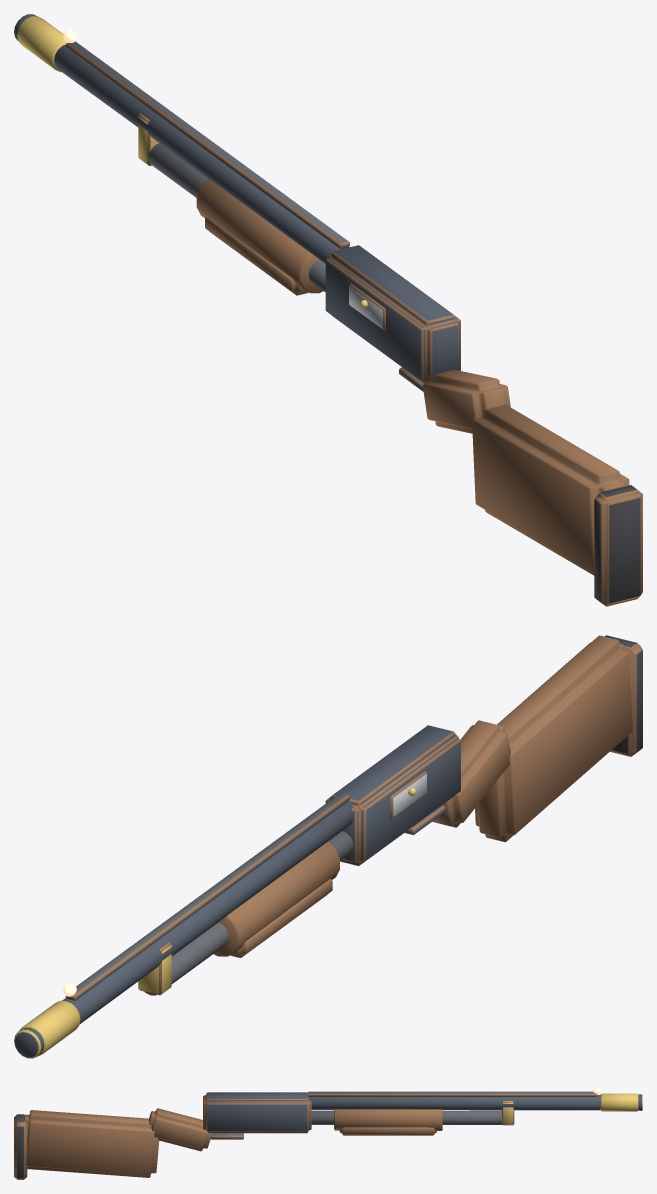
File: OW_Weapon_Shotgun.fbx
3 renders of one model, top to bottom at view 1: azimuth 30°, elevation 25°; view 2: azimuth 150°, elevation 25°; view 3: azimuth 270°, elevation 25°, orthographic. The views are drawn at different scales.
Parts seen in each view (by area): view 1: Shotgun_Body, Part_Pump, Part_Choke; view 2: Shotgun_Body, Part_Pump, Part_Choke; view 3: Shotgun_Body, Part_Pump, Part_Choke.
Boxes of the visible parts, x1=… form: Shotgun_Body: x1=54, y1=30, x2=642, y2=606; Part_Pump: x1=196, y1=178, x2=323, y2=295; Part_Choke: x1=14, y1=14, x2=67, y2=72; Shotgun_Body: x1=62, y1=635, x2=642, y2=1023; Part_Pump: x1=213, y1=841, x2=339, y2=957; Part_Choke: x1=14, y1=1000, x2=80, y2=1058; Shotgun_Body: x1=14, y1=1087, x2=601, y2=1179; Part_Pump: x1=334, y1=1109, x2=442, y2=1135; Part_Choke: x1=600, y1=1093, x2=642, y2=1111.
Size of the model in its own units: 5.34 by 17.5 by 113.
